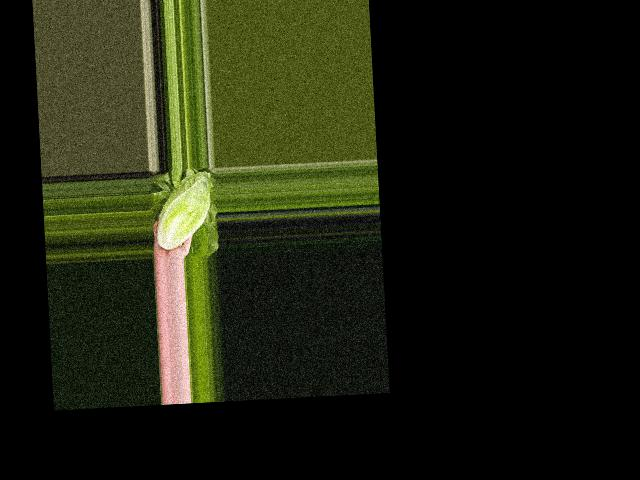lettuce: (151, 171, 215, 251)
